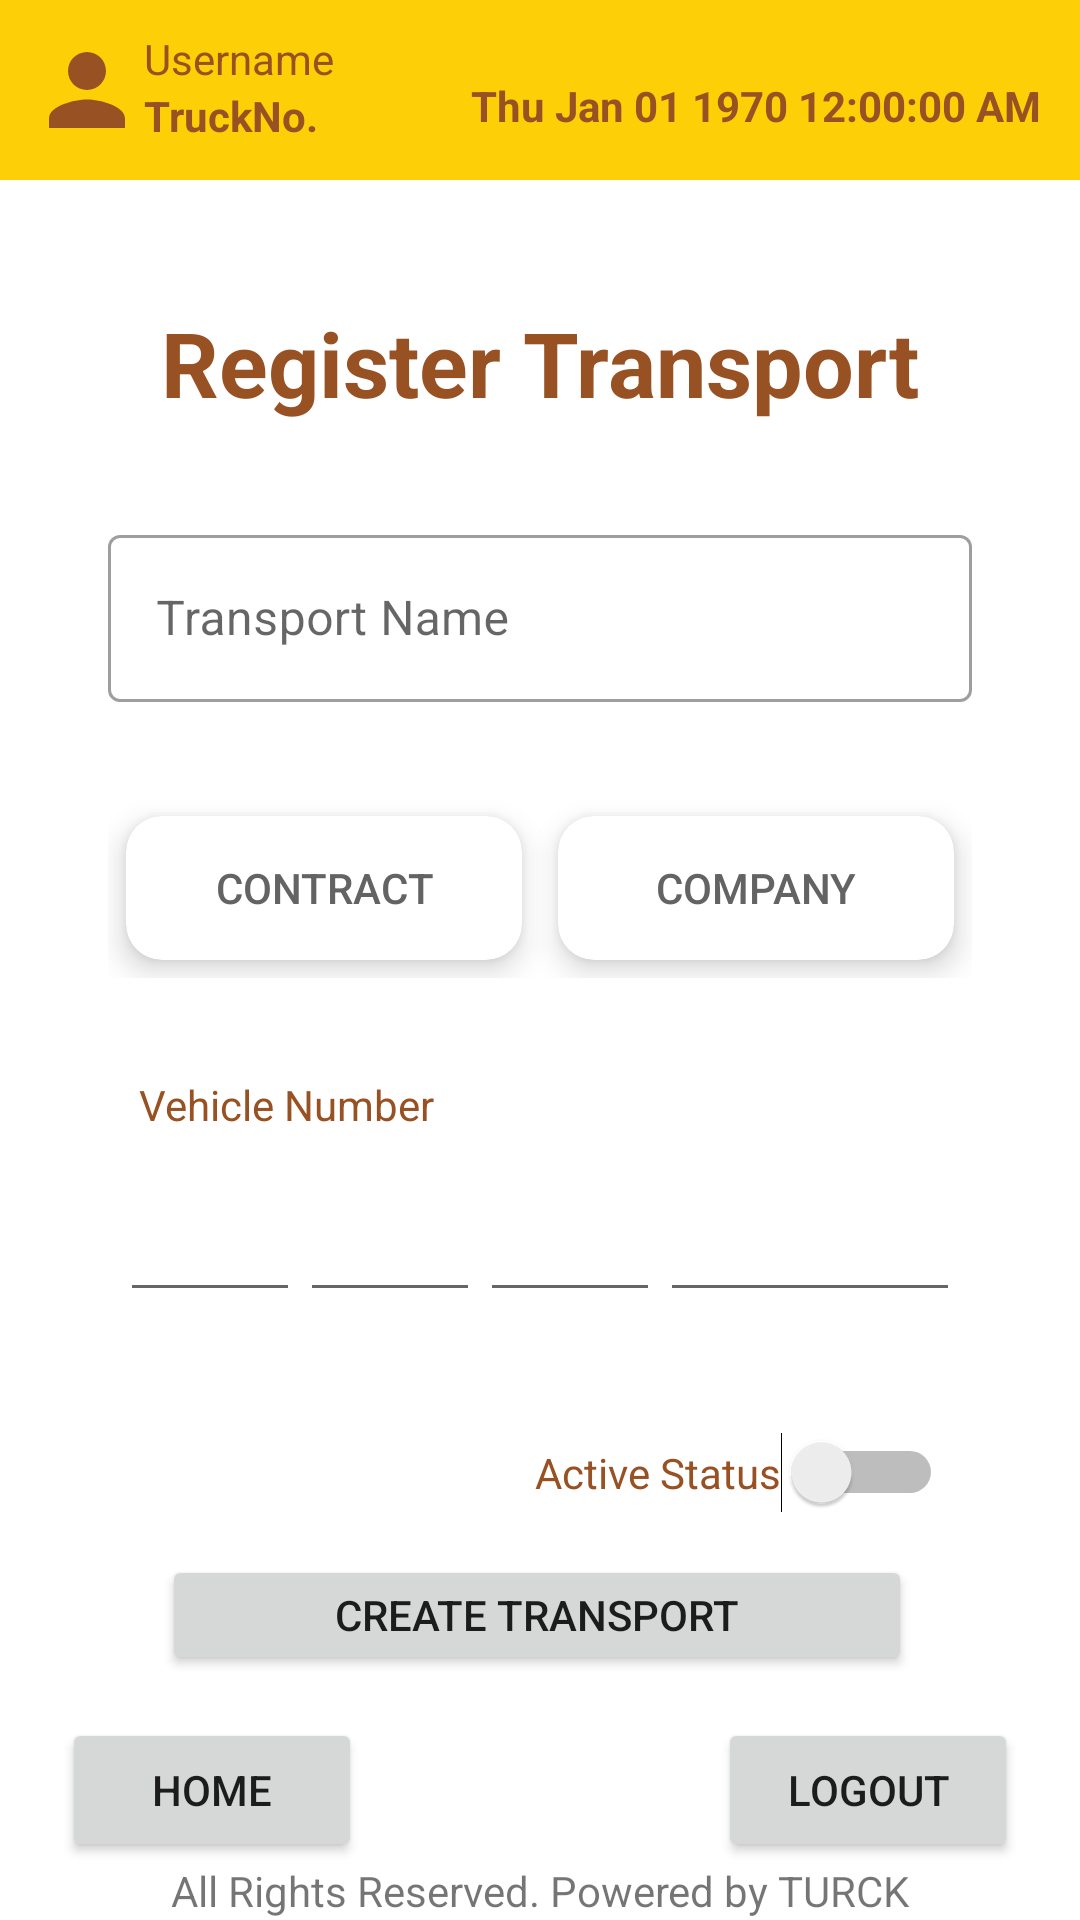

Locate icon controls on the screen. Image size 1080 x 1920, boxes as (x1, y1, x2, y2).
person: (49, 52, 125, 128)
